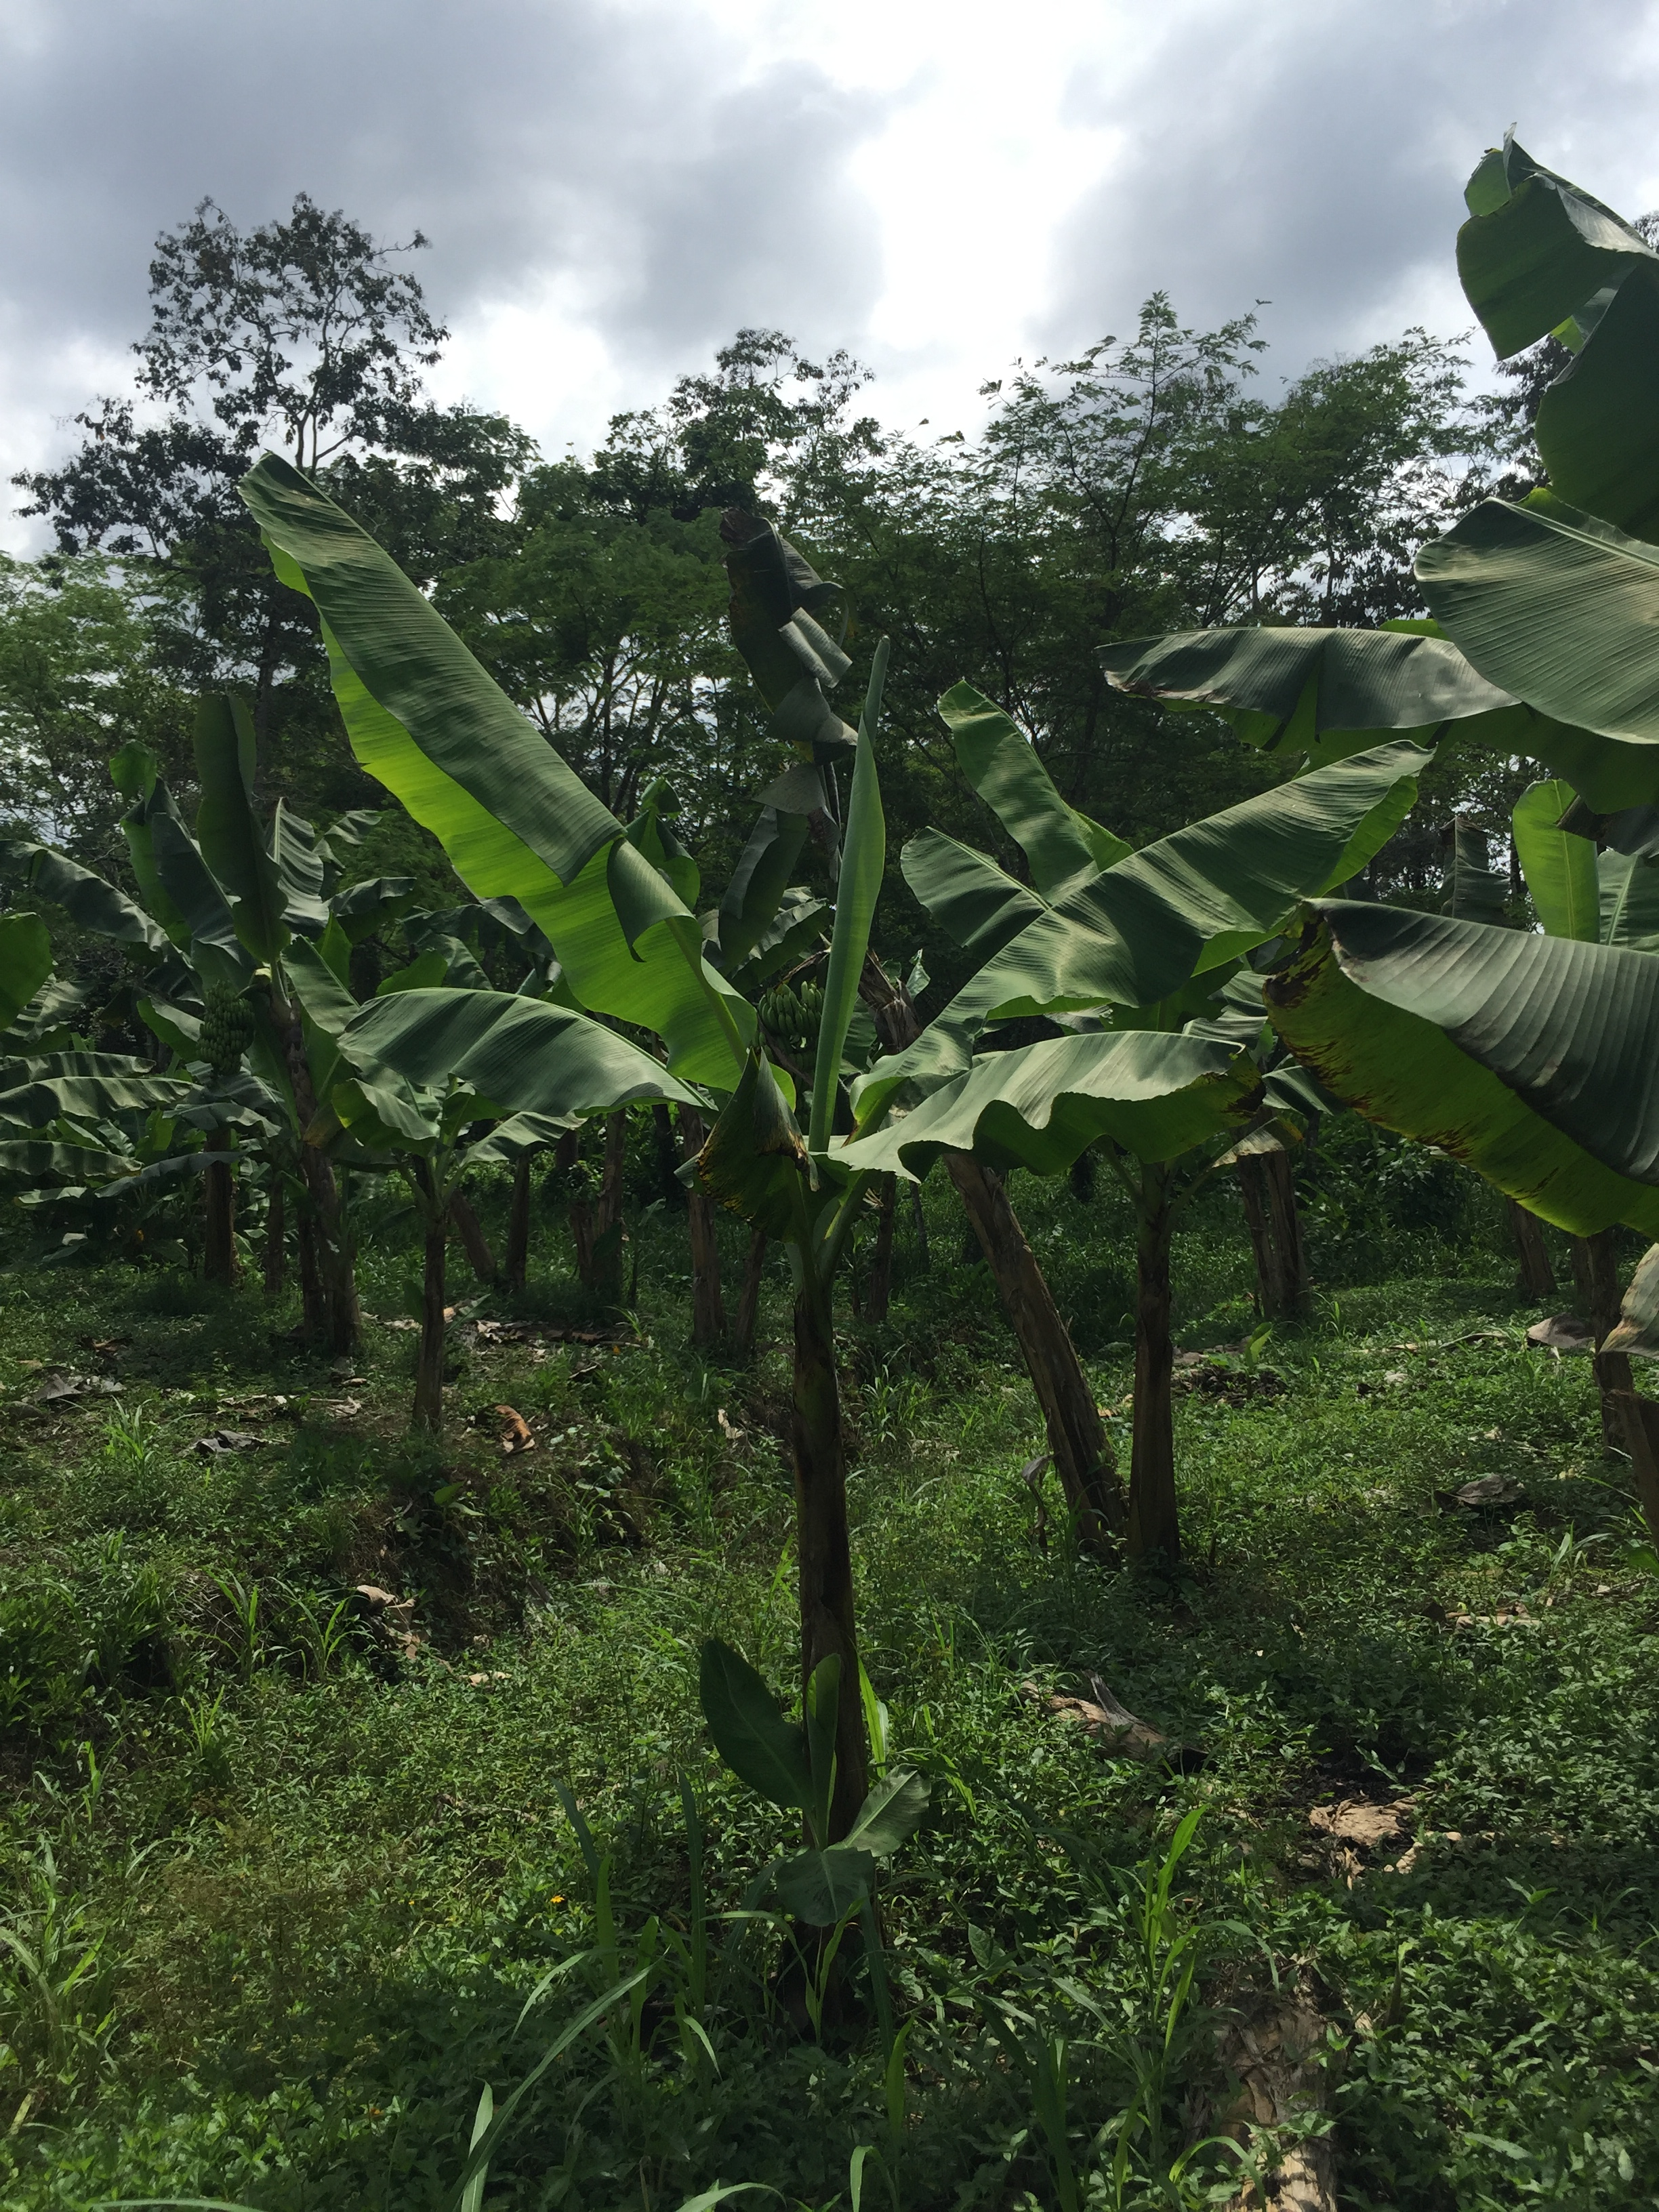candleleafs: (809, 632, 894, 1163)
